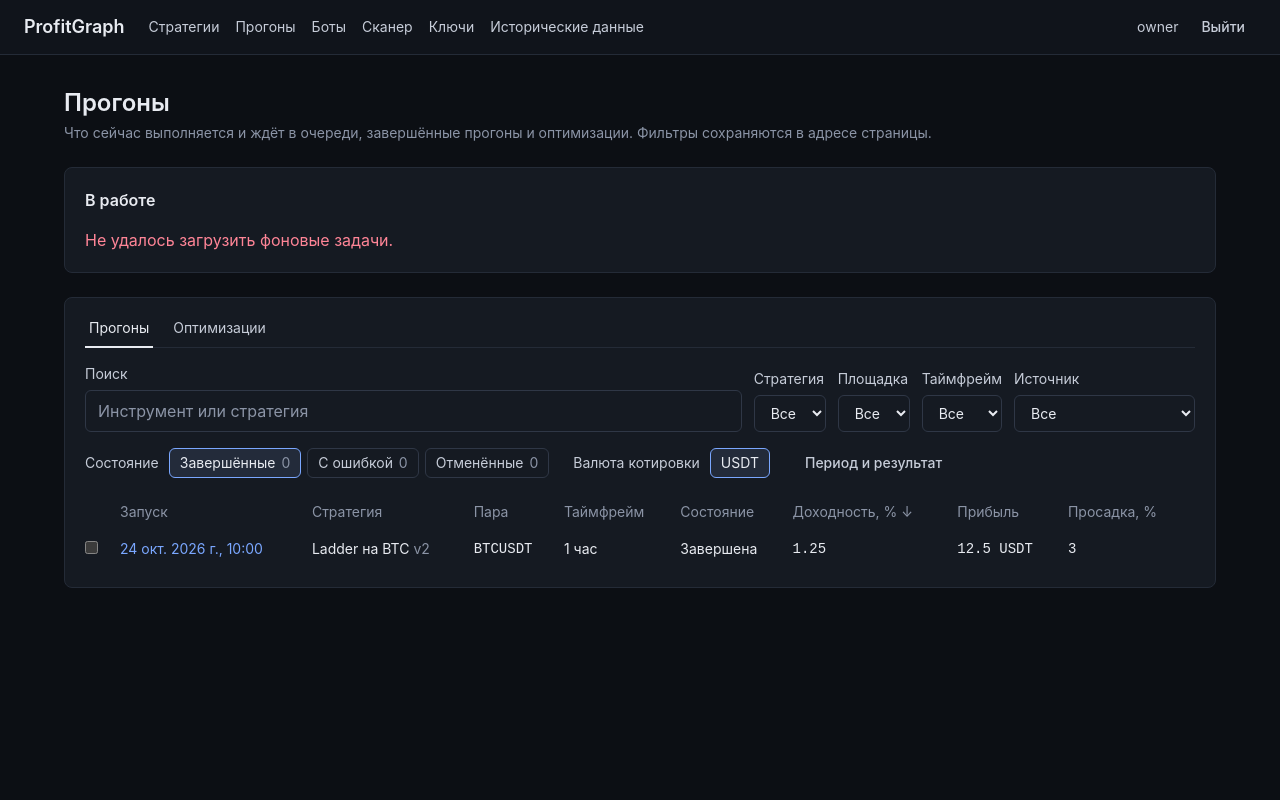
run lists › sorts the ranking by a result column and picks runs to compare
Expected: the text "BTCUSDT" is shown, [474,530,564,567]
Step 1. Click the button "Просадка, %" → (1113, 512), box [1068,502,1157,522]
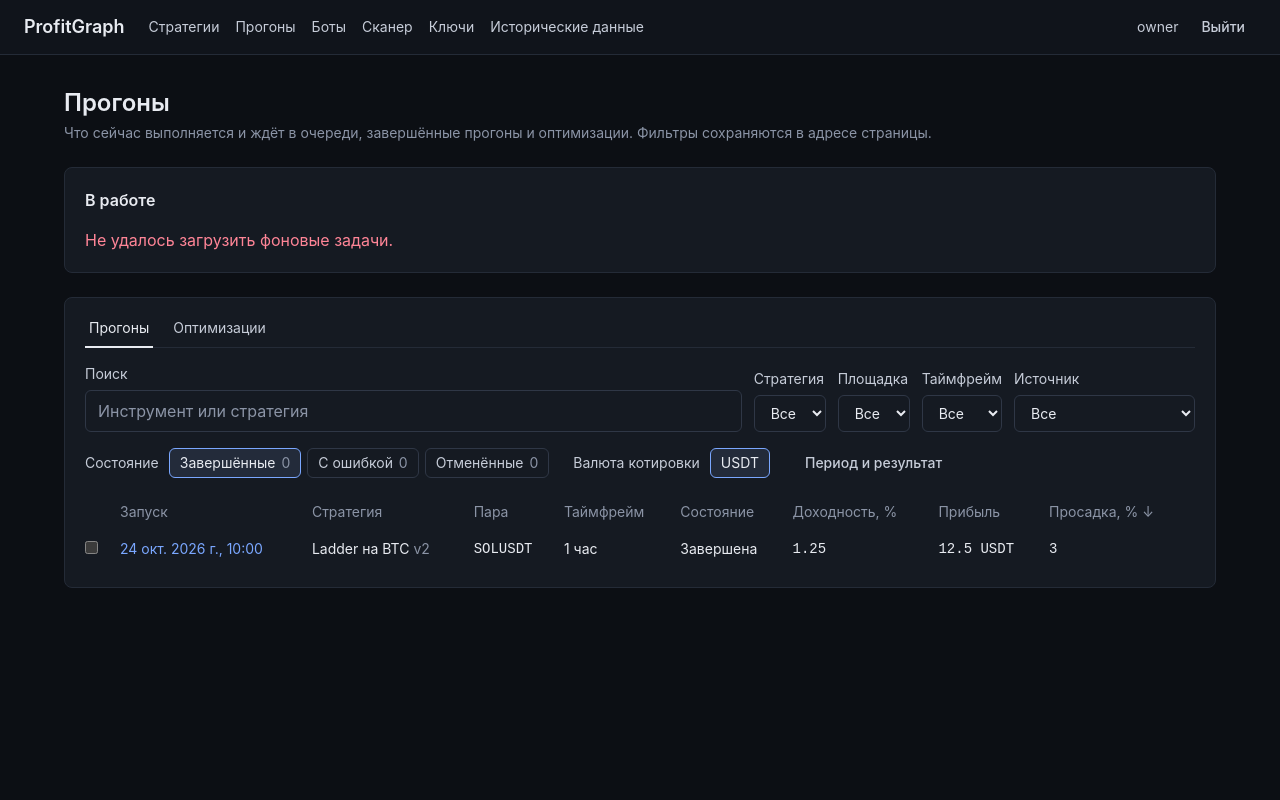
Now the text "SOLUSDT" is shown, box [474,530,564,567]
Step 2. Click the checkbox named "Сравнить прогон SOLUSDT" → (92, 547), box [85,540,98,554]
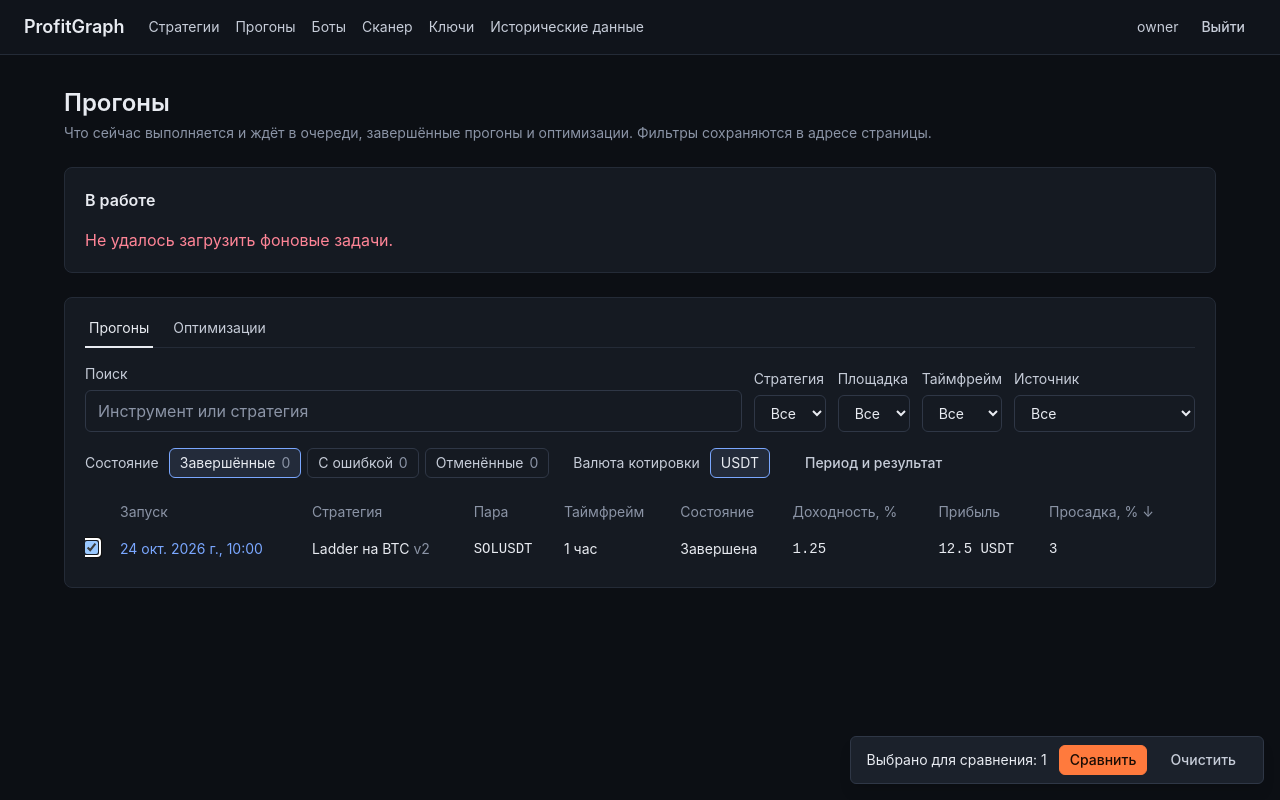
Now the text "Выбрано для сравнения: 1" is shown, box [867,750,1047,770]
